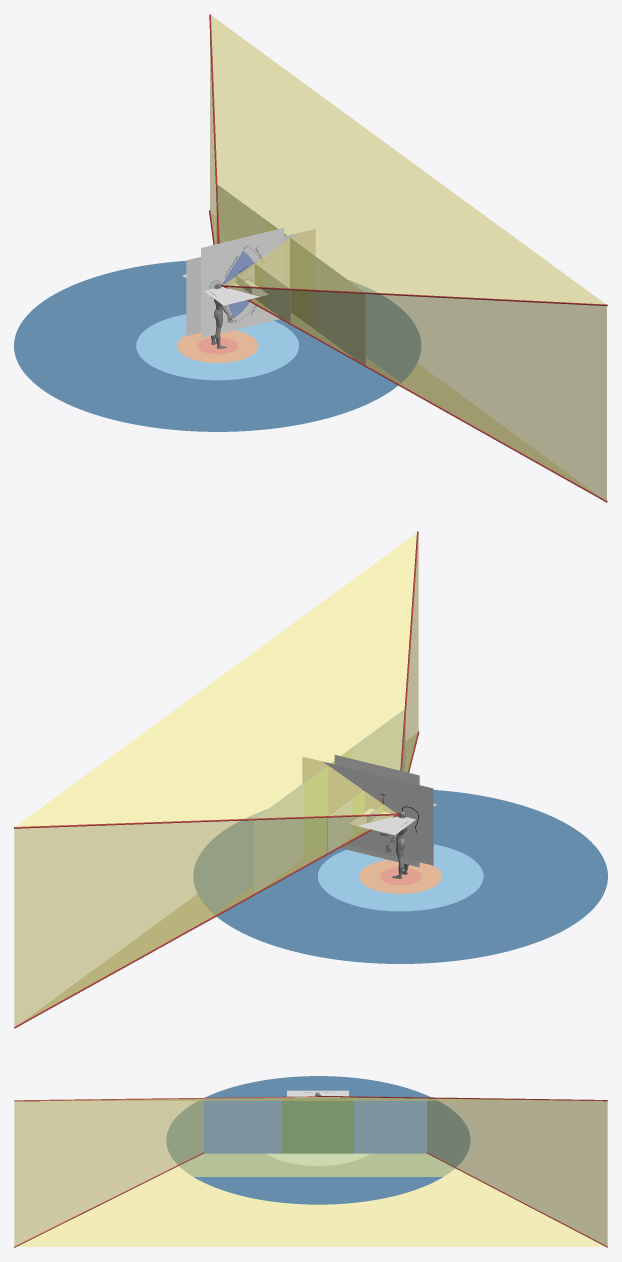
The model's file is spatialRuler.fbx.
The picture shows the model from 3 angles, top to bottom: view 1: azimuth 30°, elevation 25°; view 2: azimuth 150°, elevation 25°; view 3: azimuth 270°, elevation 25°; orthographic projection. The views are drawn at different scales.
Parts seen in each view (by area): view 1: Layer 02, Layer 01, Screenshot 2024-12-19 at 11.06.15.png, Screenshot 2024-12-19 at 10.33.01.png, Screenshot 2024-12-19 at 10.37.23.png; view 2: Layer 02, Layer 01, Screenshot 2024-12-19 at 10.33.01.png, Screenshot 2024-12-19 at 11.06.15.png, Screenshot 2024-12-19 at 10.37.23.png; view 3: Layer 02, Layer 01, Screenshot 2024-12-19 at 10.37.23.png.
Boxes of the visible parts, x1=… form: Layer 02: x1=209, y1=14, x2=607, y2=502; Layer 01: x1=14, y1=184, x2=420, y2=431; Screenshot 2024-12-19 at 11.06.15.png: x1=201, y1=228, x2=284, y2=338; Screenshot 2024-12-19 at 10.33.01.png: x1=186, y1=229, x2=315, y2=335; Screenshot 2024-12-19 at 10.37.23.png: x1=182, y1=274, x2=268, y2=305; Layer 02: x1=14, y1=531, x2=419, y2=1028; Layer 01: x1=193, y1=709, x2=607, y2=963; Screenshot 2024-12-19 at 10.33.01.png: x1=302, y1=757, x2=433, y2=865; Screenshot 2024-12-19 at 11.06.15.png: x1=334, y1=755, x2=419, y2=867; Screenshot 2024-12-19 at 10.37.23.png: x1=350, y1=803, x2=436, y2=835; Layer 02: x1=14, y1=1095, x2=607, y2=1247; Layer 01: x1=166, y1=1076, x2=470, y2=1204; Screenshot 2024-12-19 at 10.37.23.png: x1=287, y1=1090, x2=348, y2=1096.
Size of the model in its own units: 10.3 by 19.52 by 5.36.
12 materials, 3 textured.
